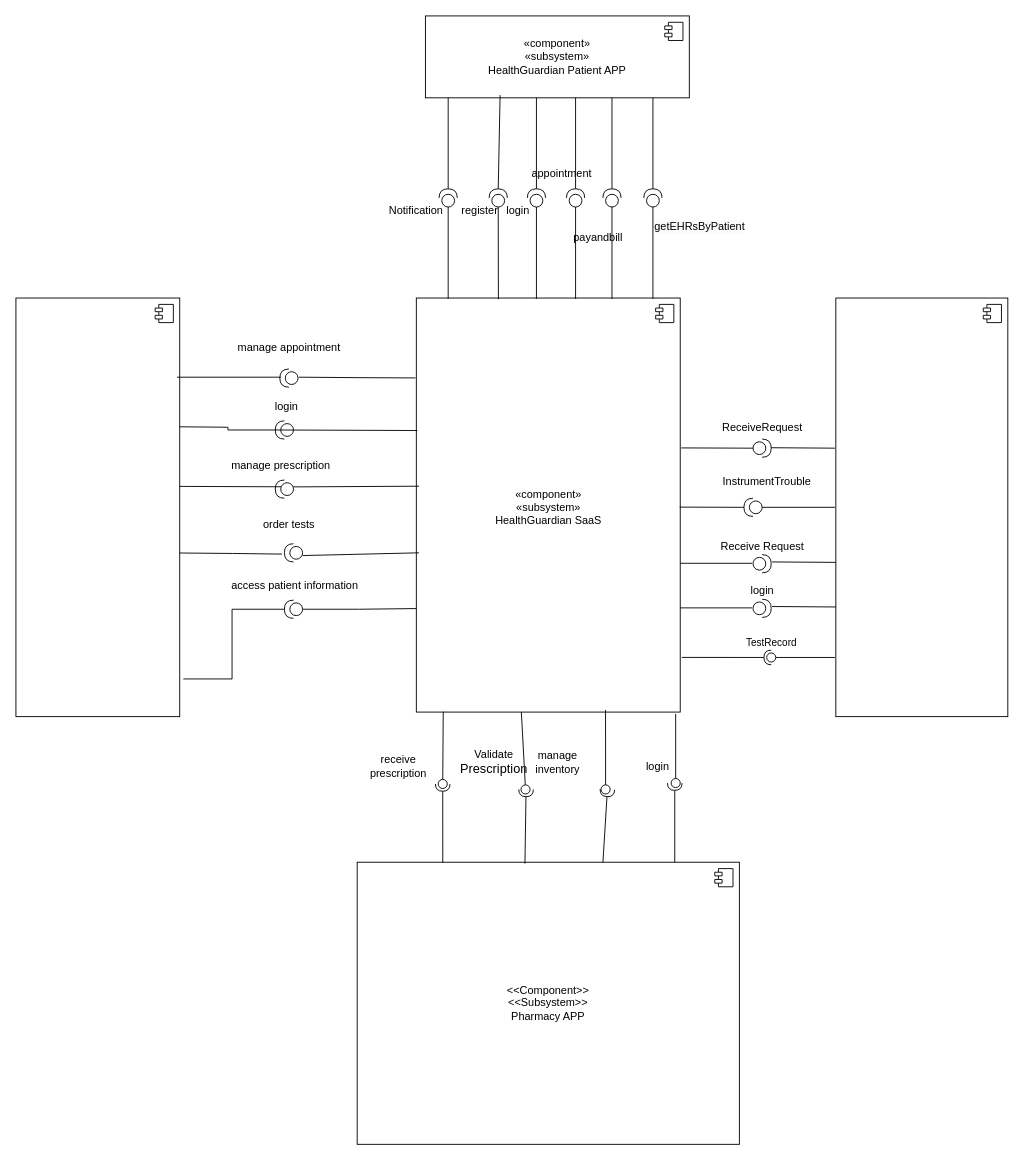
Some shapes in this 1024 by 1160 pixel diagram are drawn without their labels. Here are the shapes that lost their labels. From the top down, the box of each, then its label:
(15, 297, 180, 717): «component» «subsystem» HealthGuardian Doctor APP
(835, 297, 1008, 717): «component» «subsystem» HealthGuardian Lab APP
